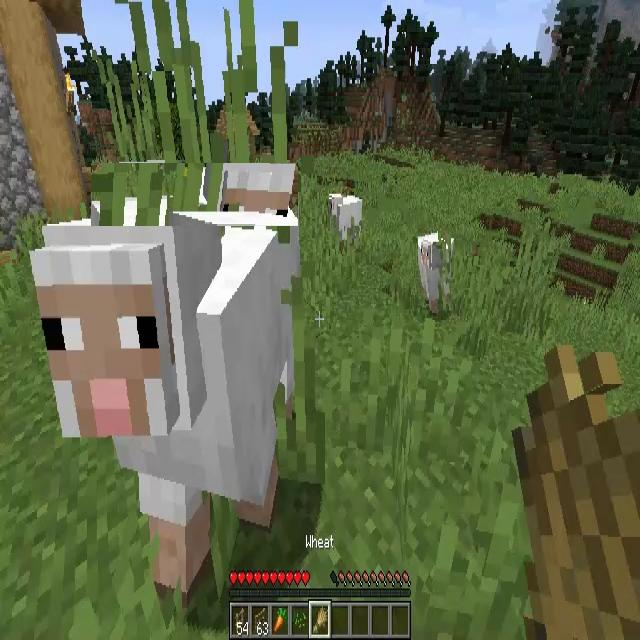sheep: (36, 229, 308, 570), (91, 163, 298, 226), (418, 228, 451, 310), (328, 193, 363, 241)
